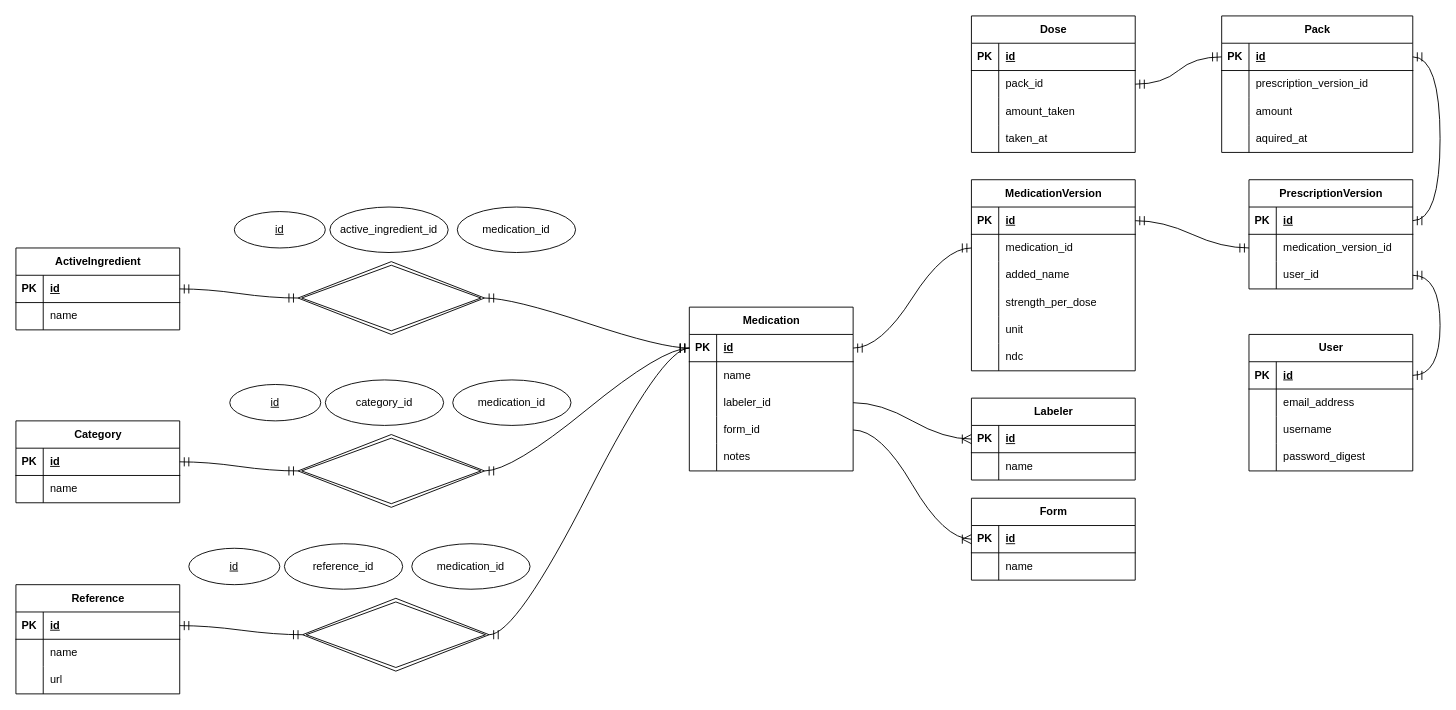
Image size: 1456x710. Some labels were removed from this diagram. Here are the shapes that lost their labels. From the top down, the centre of each, then its label:
At (391,297): "ActiveIngredientMedication".
At (391,470): "CategoryMedication".
At (395,634): "ReferenceMedication".
